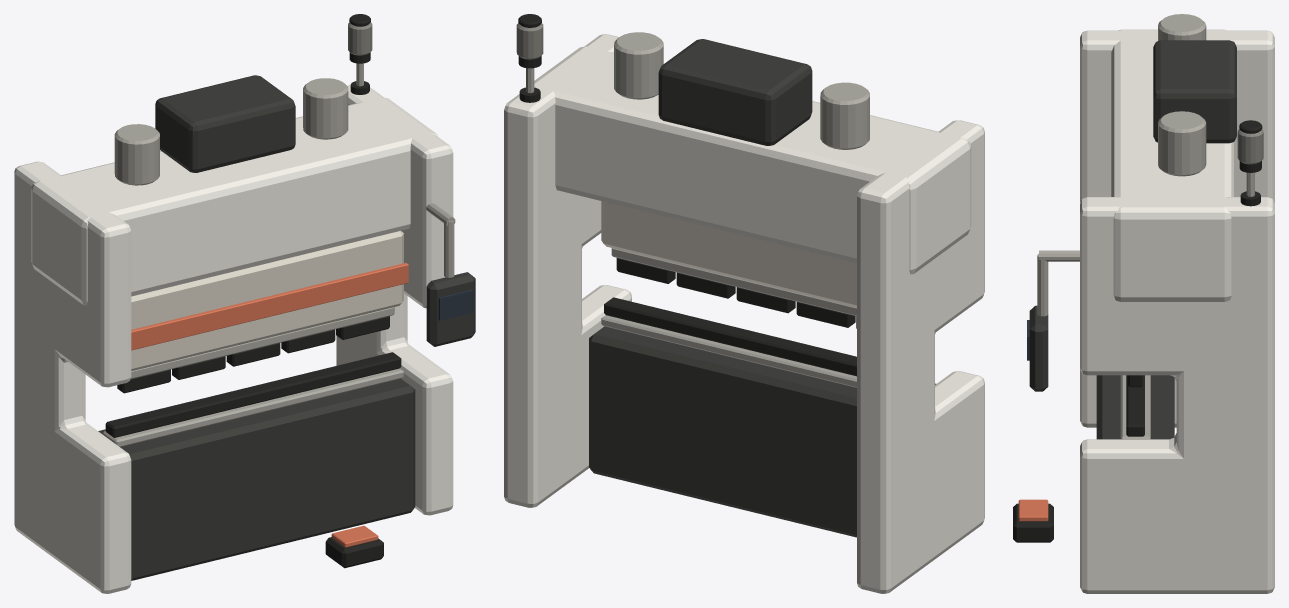
Rendered from press_brake.glb.
3 renders of one model, left to right at view 1: azimuth 30°, elevation 25°; view 2: azimuth 150°, elevation 25°; view 3: azimuth 270°, elevation 25°, orthographic. The views are drawn at different scales.
Visible parts, largest first — view 1: press_brake_parts, ram_parts; view 2: press_brake_parts, ram_parts; view 3: press_brake_parts.
Boxes of the visible parts, x1,y1,x2,y2 form: press_brake_parts: (14, 14, 475, 593); ram_parts: (117, 231, 408, 393); press_brake_parts: (504, 14, 984, 593); ram_parts: (601, 201, 856, 328); press_brake_parts: (1013, 14, 1274, 593).
Size of the model in its own units: 2.36 by 2.76 by 1.41.
